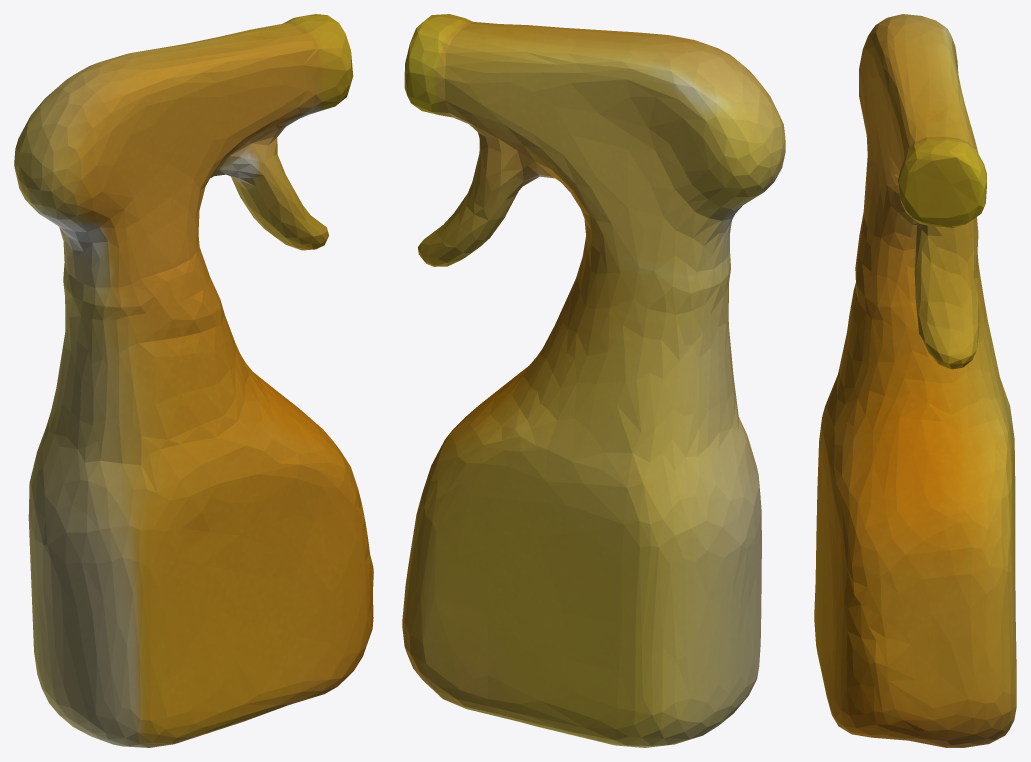
3 views of the same model, side by side, from view 1: azimuth 30°, elevation 25°; view 2: azimuth 150°, elevation 25°; view 3: azimuth 270°, elevation 25° (orthographic). The views are drawn at different scales.
Visible parts, largest first — view 1: world; view 2: world; view 3: world.
Part boxes in pixels (bbox=[...]): world: bbox=[14, 14, 373, 747]; world: bbox=[402, 14, 785, 747]; world: bbox=[814, 14, 1016, 747].
Bounding box in the file's own units: 0.2774 × 0.5216 × 0.1506.
Materials: 1 (1 with a texture image).
